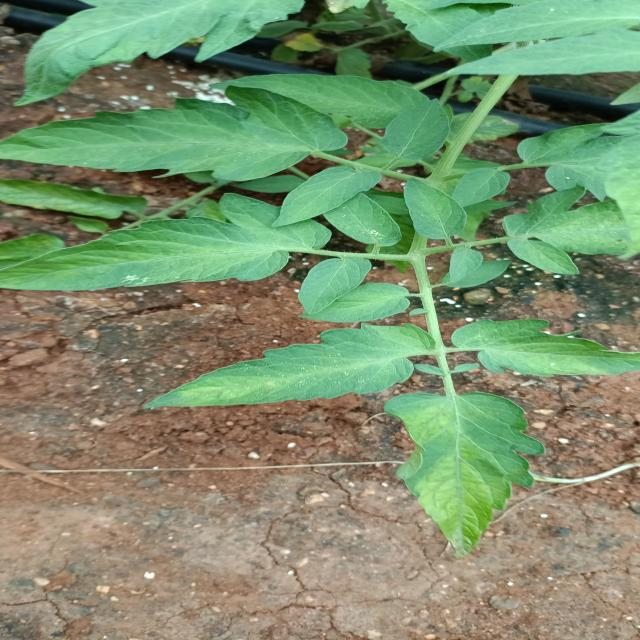Healthy Leaf: (376, 388, 554, 570), (2, 201, 315, 296), (140, 324, 435, 413), (456, 311, 640, 385)
